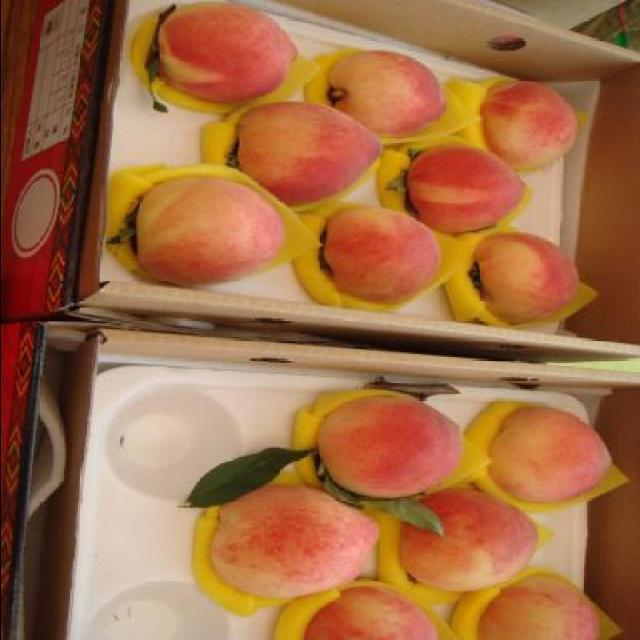Peach: (210, 484, 378, 598), (137, 173, 286, 284), (235, 100, 382, 204), (152, 1, 300, 102), (318, 396, 464, 498), (401, 490, 541, 590), (488, 405, 610, 504), (319, 206, 441, 302), (404, 147, 526, 236), (326, 52, 448, 136), (470, 233, 579, 324), (479, 80, 581, 169), (478, 576, 600, 640), (298, 590, 438, 638)
